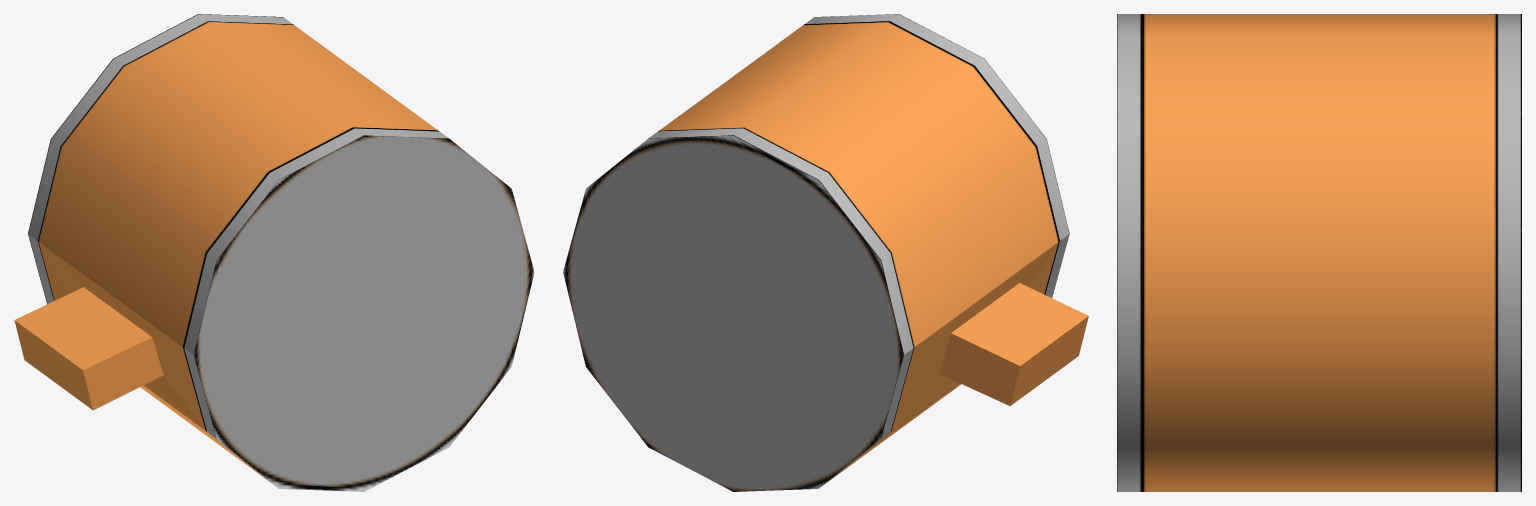
The model's file is FERNPelletsMagazine.fbx.
3 views of the same model, side by side, from view 1: azimuth 30°, elevation 25°; view 2: azimuth 150°, elevation 25°; view 3: azimuth 270°, elevation 25° (orthographic). The views are drawn at different scales.
Parts seen in each view (by area): view 1: FERNPelletsMagazine; view 2: FERNPelletsMagazine; view 3: FERNPelletsMagazine.
Part boxes in pixels (x1,y1,x2,y2): FERNPelletsMagazine: (14,14,534,491); FERNPelletsMagazine: (563,14,1088,491); FERNPelletsMagazine: (1117,14,1521,491).
Bounding box in the file's own units: 12.65 × 10.63 × 8.97.
